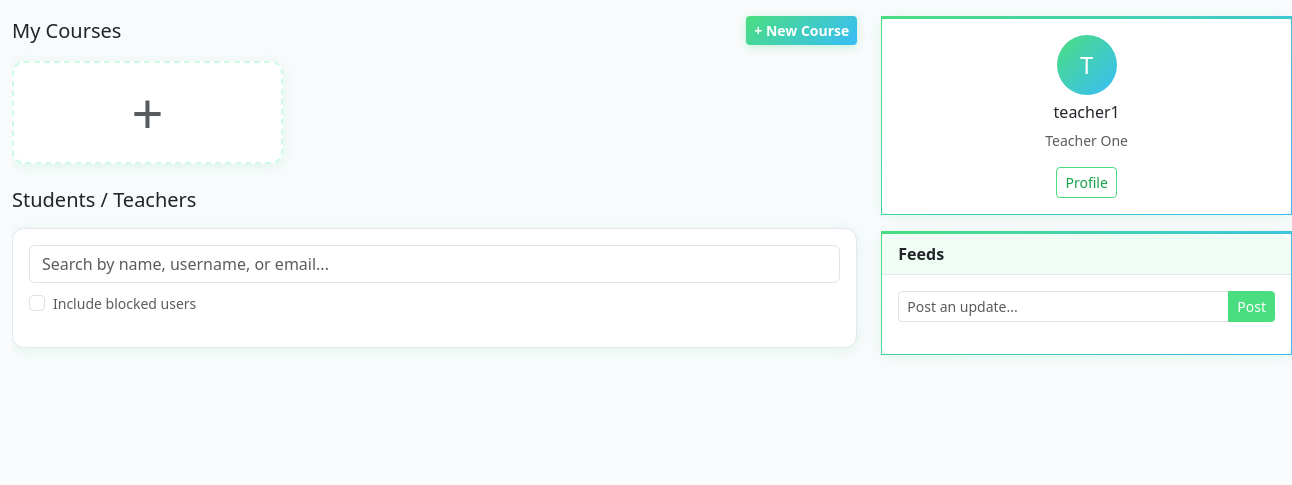
Test case: TeacherHome › clears results when search input is cleared
Type "alice" into the field with placeholder "Search by name, username, or email..." at point(435, 264), box [29,245,840,283]
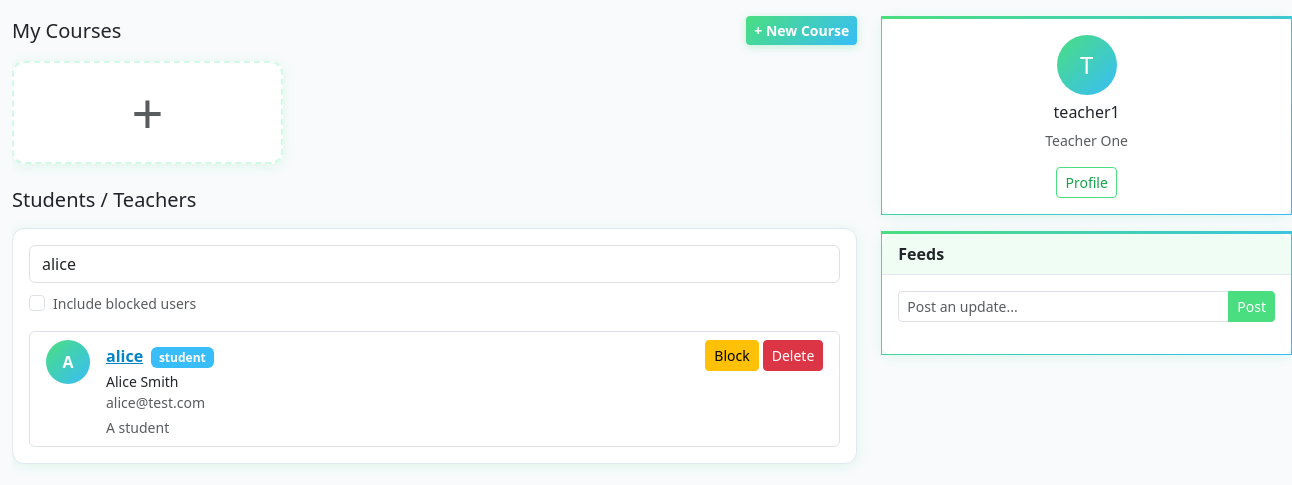
Expected: the link "alice" is shown, [106,345,143,367]
Clear the field with placeholder "Search by name, username, or email..." at point(435, 264), box [29,245,840,283]
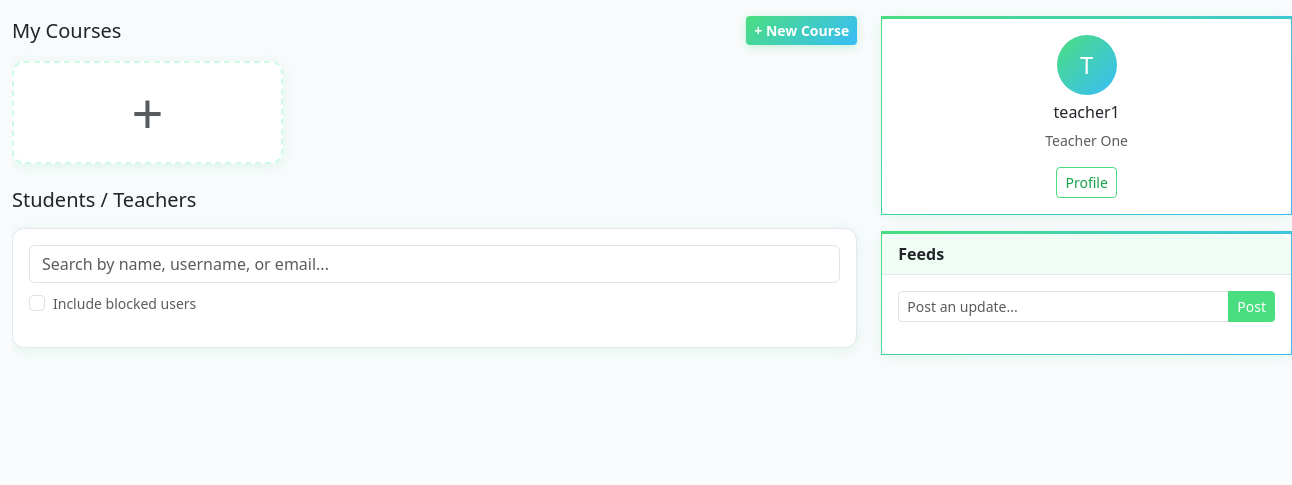
Expected: the link "alice" is gone
